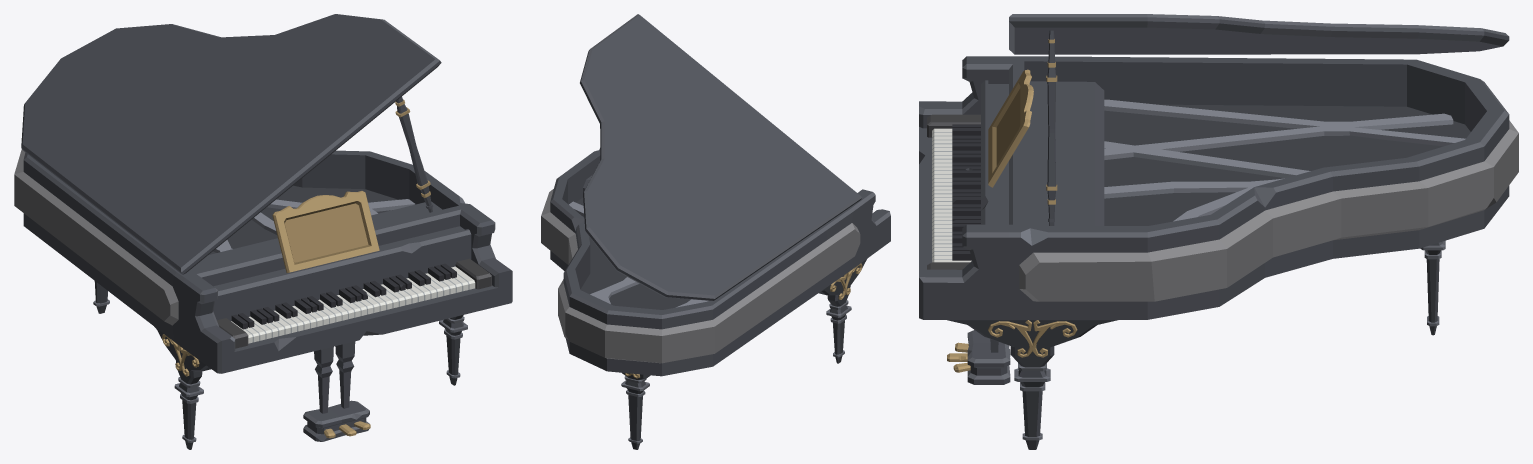
The model's file is WF_LP_HT_Props_Piano.002.fbx.
3 renders of one model, left to right at view 1: azimuth 30°, elevation 25°; view 2: azimuth 150°, elevation 25°; view 3: azimuth 270°, elevation 25°, orthographic. The views are drawn at different scales.
Visible parts, largest first — view 1: WF_LP_HT_Props_Piano.002; view 2: WF_LP_HT_Props_Piano.002; view 3: WF_LP_HT_Props_Piano.002.
Boxes of the visible parts, x1=… form: WF_LP_HT_Props_Piano.002: x1=14, y1=14, x2=512, y2=449; WF_LP_HT_Props_Piano.002: x1=541, y1=14, x2=890, y2=449; WF_LP_HT_Props_Piano.002: x1=919, y1=14, x2=1518, y2=449.
Size of the model in its own units: 1.82 by 1.89 by 2.45.
